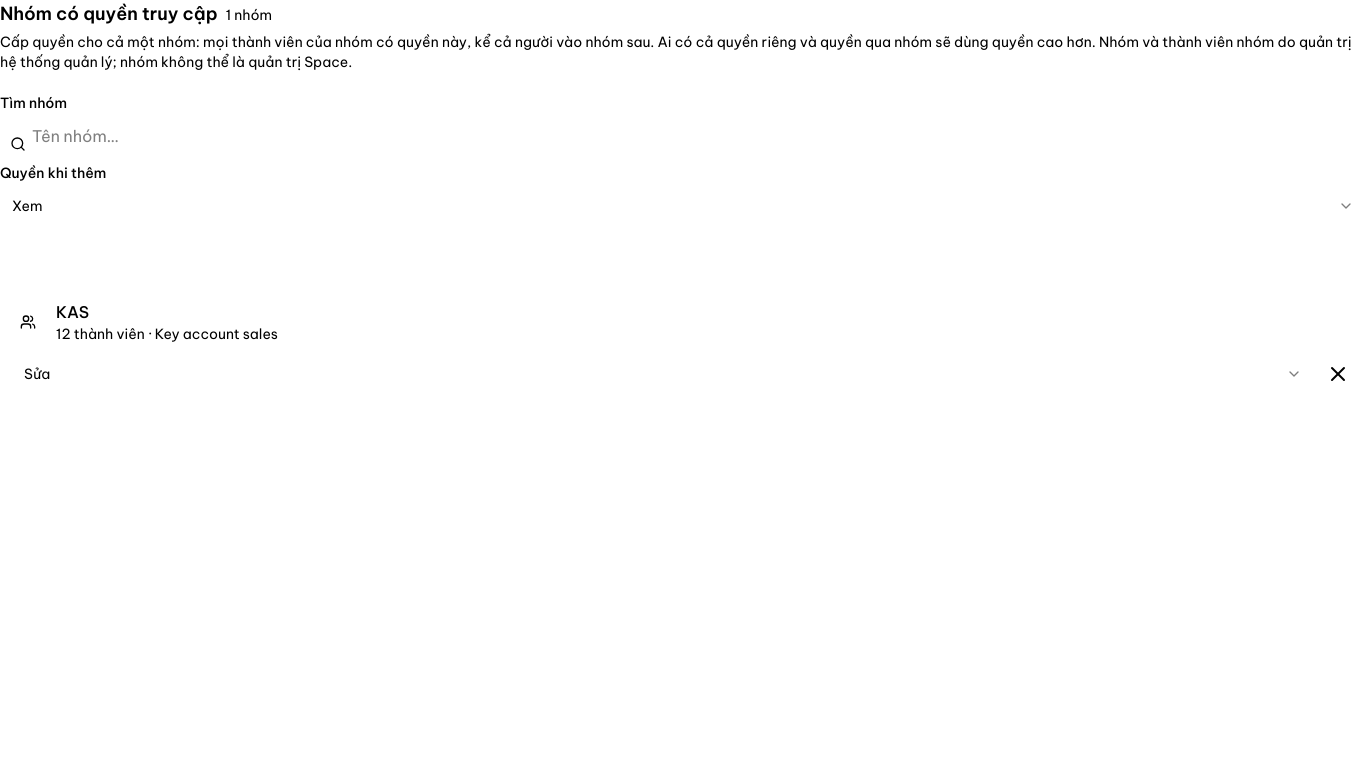
Test: GroupAccessSettings › removes a group's access after confirmation; a grant already gone counts as removed
Click the button named "Gỡ quyền của nhóm KAS" at x=1338, y=374, box 1322,358 -> 1354,390
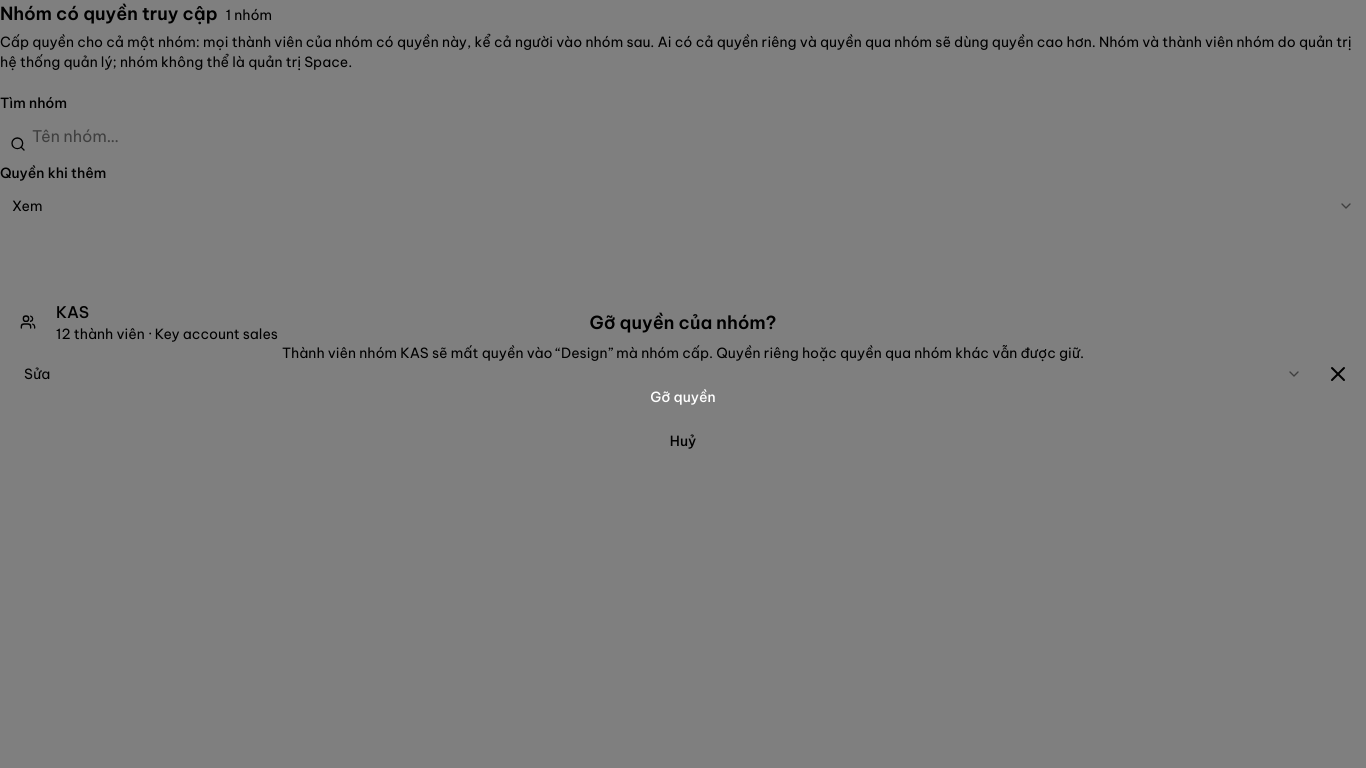
expect the dialog shows "KAS": met, box 282,344 -> 1084,362
expect the dialog shows "Design": met, box 282,344 -> 1084,362
Click the button "Gỡ quyền" at x=683, y=397, box 40,379 -> 1326,415
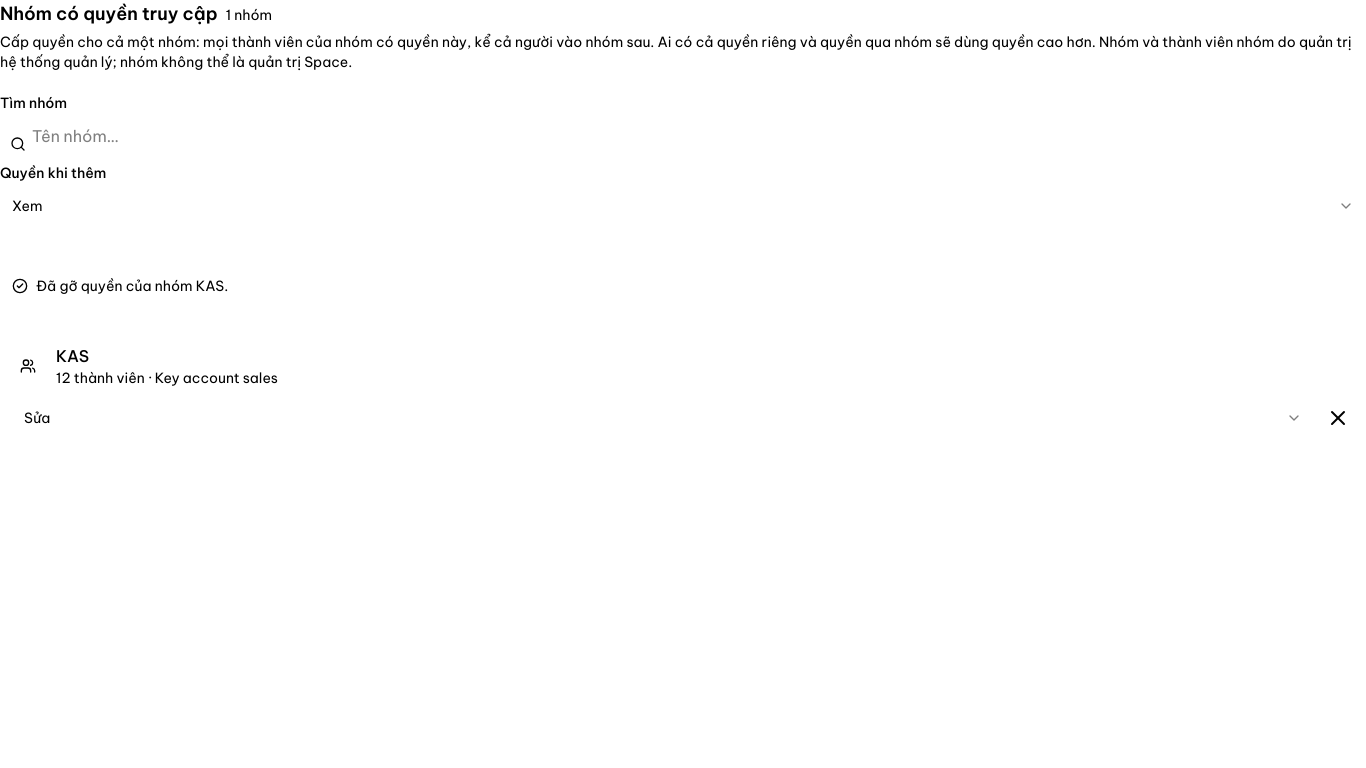
expect the dialog is gone: met
expect the text "Đã gỡ quyền của nhóm KAS." is shown: met, box 36,276 -> 228,296
